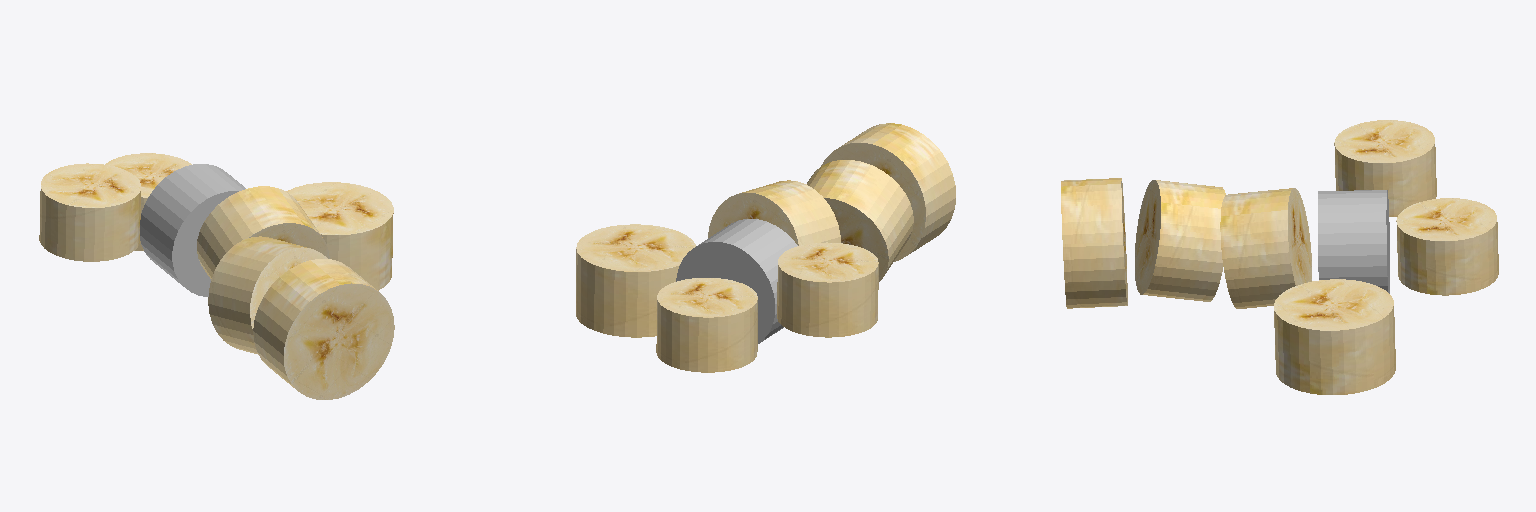
The picture shows the model from 3 angles: view 1: azimuth 30°, elevation 25°; view 2: azimuth 150°, elevation 25°; view 3: azimuth 270°, elevation 25°; orthographic projection.
Parts seen in each view (by area): view 1: Cylinder.002_Cylinder.000, Cylinder.006_Cylinder.007, Cylinder.002, Cylinder.001_Cylinder.008, Cylinder.003_Cylinder.000, Cylinder.005_Cylinder.006, Cylinder.004_Cylinder.005; view 2: Cylinder.001_Cylinder.008, Cylinder.004_Cylinder.005, Cylinder.006_Cylinder.007, Cylinder.002_Cylinder.000, Cylinder.003_Cylinder.000, Cylinder.002, Cylinder.005_Cylinder.006; view 3: Cylinder.001_Cylinder.008, Cylinder.003_Cylinder.000, Cylinder.005_Cylinder.006, Cylinder.004_Cylinder.005, Cylinder.002_Cylinder.000, Cylinder.006_Cylinder.007, Cylinder.002.
Part boxes in pixels (x1,y1,x2,y2): Cylinder.002_Cylinder.000: (253,259,394,399); Cylinder.006_Cylinder.007: (39,163,140,261); Cylinder.002: (140,164,245,296); Cylinder.001_Cylinder.008: (286,182,393,290); Cylinder.003_Cylinder.000: (208,236,327,354); Cylinder.005_Cylinder.006: (197,186,329,278); Cylinder.004_Cylinder.005: (105,153,191,250); Cylinder.001_Cylinder.008: (576,224,695,337); Cylinder.004_Cylinder.005: (656,278,757,372); Cylinder.006_Cylinder.007: (777,242,878,337); Cylinder.002_Cylinder.000: (821,123,955,261); Cylinder.003_Cylinder.000: (807,160,913,281); Cylinder.002: (676,219,797,343); Cylinder.005_Cylinder.006: (708,180,840,245); Cylinder.001_Cylinder.008: (1274,279,1395,394); Cylinder.003_Cylinder.000: (1135,180,1225,301); Cylinder.005_Cylinder.006: (1220,188,1311,308); Cylinder.004_Cylinder.005: (1396,198,1498,295); Cylinder.002_Cylinder.000: (1061,178,1127,308); Cylinder.006_Cylinder.007: (1334,120,1436,216); Cylinder.002: (1318,190,1389,293).
Bounding box in the file's own units: 21.49 × 8.43 × 26.02.
Materials: 7 (1 with a texture image).